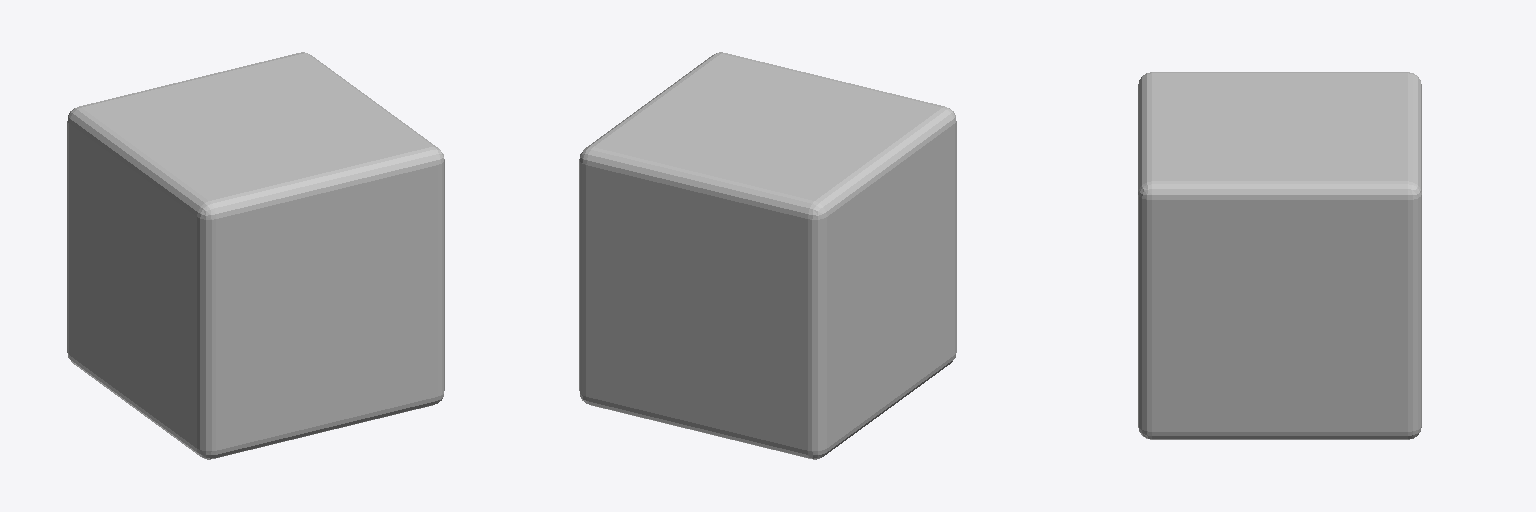
3 views of the same model, side by side, from view 1: azimuth 30°, elevation 25°; view 2: azimuth 150°, elevation 25°; view 3: azimuth 270°, elevation 25° (orthographic).
Visible parts, largest first — view 1: Roundcube; view 2: Roundcube; view 3: Roundcube.
Part boxes in pixels (left/top/right/bottom): Roundcube: left=67, top=52, right=444, bottom=459; Roundcube: left=579, top=52, right=956, bottom=459; Roundcube: left=1138, top=72, right=1421, bottom=439.
Size of the model in its own units: 2 by 2 by 2.